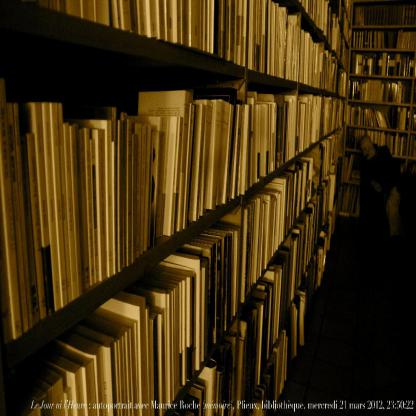book: (0, 129, 344, 416), (0, 78, 250, 346), (168, 166, 340, 416), (32, 0, 348, 100), (248, 207, 342, 416), (248, 89, 346, 186), (298, 0, 346, 71), (348, 122, 416, 162), (346, 73, 415, 104), (346, 106, 409, 136), (347, 52, 416, 78), (353, 0, 415, 26), (350, 31, 416, 52), (345, 156, 361, 191), (343, 185, 360, 215)
